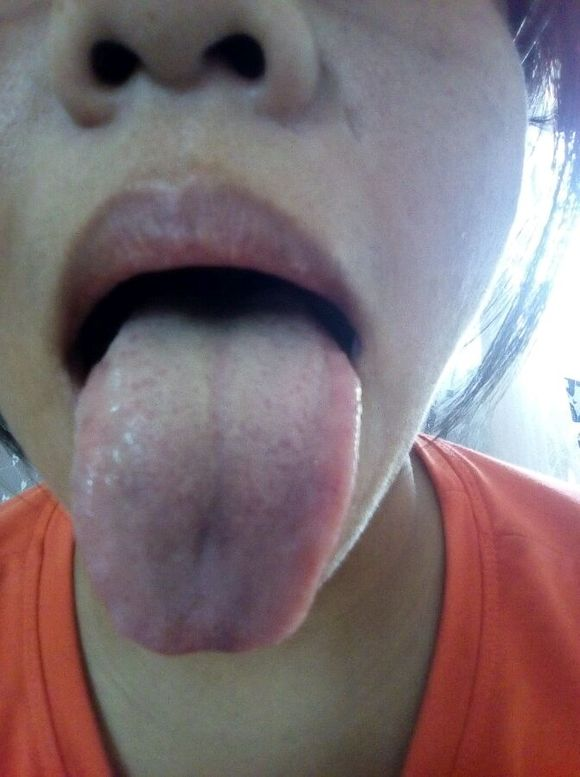huangtaishe: (72, 308, 361, 655)
piweiao: (159, 492, 259, 599)
